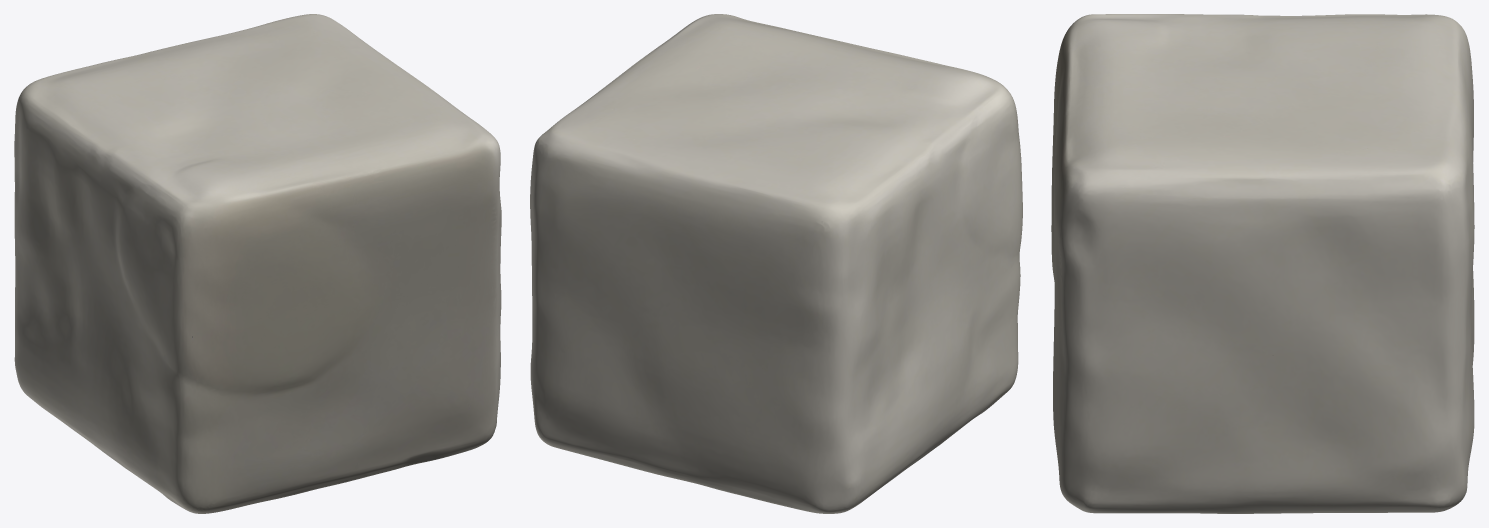
The model's file is cubo.glb.
3 views of the same model, side by side, from view 1: azimuth 30°, elevation 25°; view 2: azimuth 150°, elevation 25°; view 3: azimuth 270°, elevation 25° (orthographic). The views are drawn at different scales.
Parts seen in each view (by area): view 1: tripo_node_9554d398-e535-4f2d-931d-0d5e217cfc65; view 2: tripo_node_9554d398-e535-4f2d-931d-0d5e217cfc65; view 3: tripo_node_9554d398-e535-4f2d-931d-0d5e217cfc65.
Boxes of the visible parts, bbox=[...] form: tripo_node_9554d398-e535-4f2d-931d-0d5e217cfc65: bbox=[14, 14, 501, 513]; tripo_node_9554d398-e535-4f2d-931d-0d5e217cfc65: bbox=[530, 14, 1022, 513]; tripo_node_9554d398-e535-4f2d-931d-0d5e217cfc65: bbox=[1051, 14, 1474, 513].
Size of the model in its own units: 0.98 by 0.9156 by 0.9784.
1 material, 1 textured.
